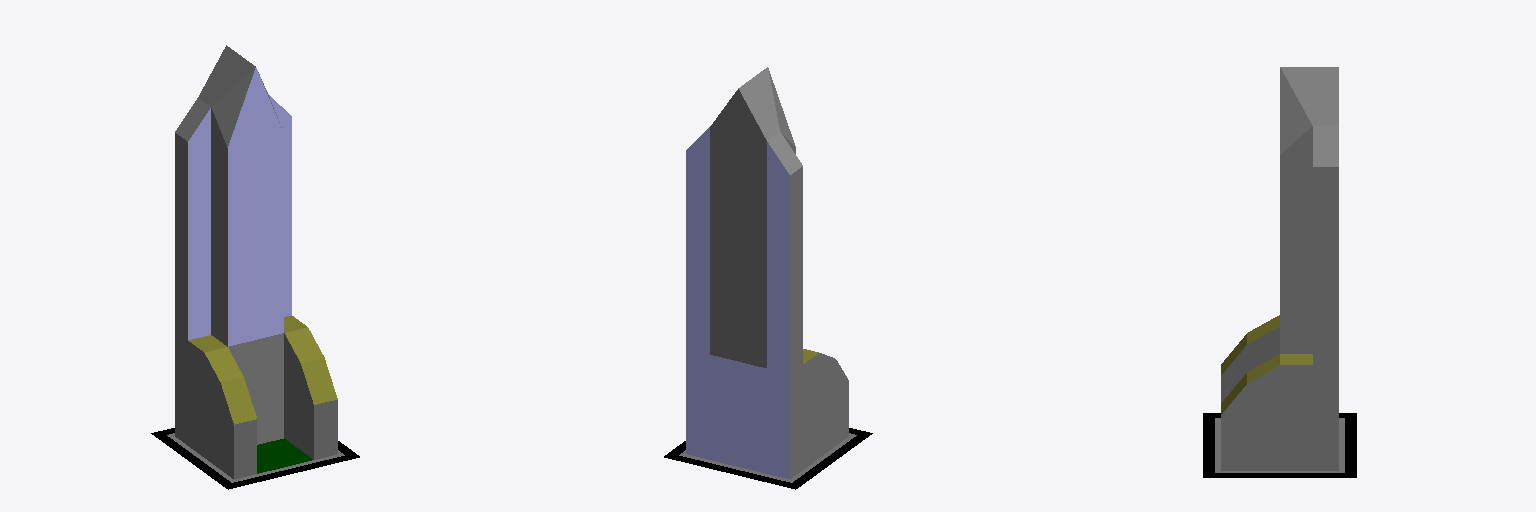
File: bldg4.obj
The picture shows the model from 3 angles: view 1: azimuth 30°, elevation 25°; view 2: azimuth 150°, elevation 25°; view 3: azimuth 270°, elevation 25°; orthographic projection.
Visible parts, largest first — view 1: pPlane2; view 2: pPlane2; view 3: pPlane2.
Part boxes in pixels (x1,y1,x2,y2): pPlane2: (151, 45, 359, 489); pPlane2: (664, 67, 872, 489); pPlane2: (1203, 67, 1356, 477).
Size of the model in its own units: 10 by 27.13 by 10.